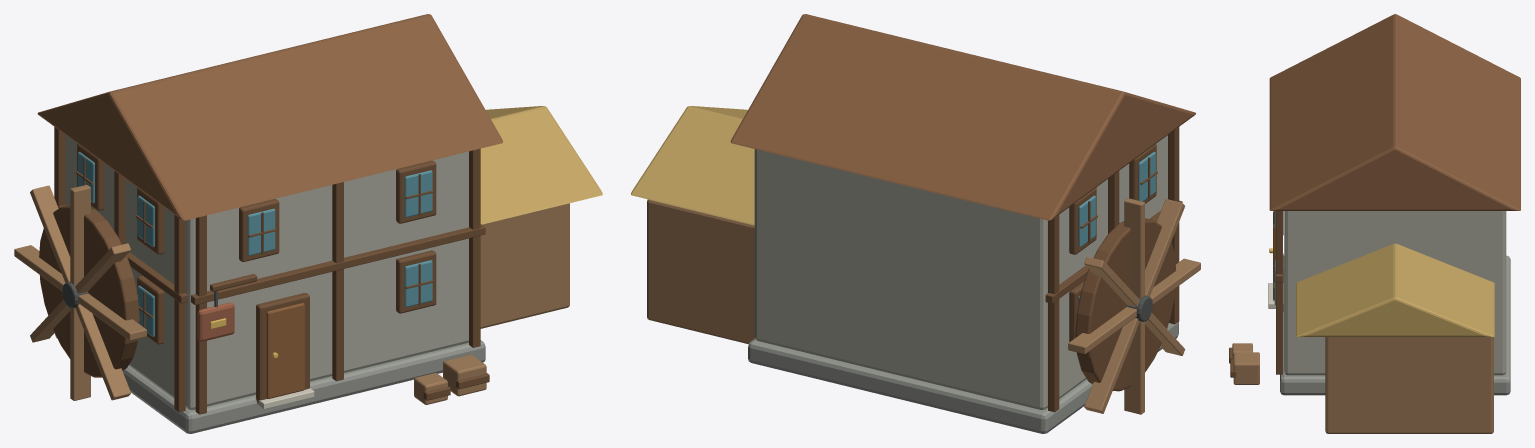
The model's file is temperate-mill-1.glb.
3 renders of one model, left to right at view 1: azimuth 30°, elevation 25°; view 2: azimuth 150°, elevation 25°; view 3: azimuth 270°, elevation 25°, orthographic. The views are drawn at different scales.
Visible parts, largest first — view 1: Wood shingles, Fieldstone, Dark beams, Aged oak, Golden thatch, Foundation stone, Blue glass, Door oak, Painted sign; view 2: Fieldstone, Wood shingles, Aged oak, Dark beams, Golden thatch, Foundation stone, Blue glass; view 3: Wood shingles, Aged oak, Fieldstone, Golden thatch, Foundation stone, Dark beams.
Boxes of the visible parts, left/top/right/bottom form: Wood shingles: left=37, top=14, right=502, bottom=220; Fieldstone: left=65, top=135, right=468, bottom=409; Dark beams: left=39, top=127, right=489, bottom=414; Aged oak: left=14, top=184, right=569, bottom=404; Golden thatch: left=480, top=106, right=602, bottom=224; Foundation stone: left=54, top=333, right=485, bottom=433; Blue glass: left=78, top=151, right=432, bottom=336; Door oak: left=266, top=303, right=304, bottom=398; Painted sign: left=197, top=302, right=234, bottom=341; Fieldstone: left=754, top=135, right=1167, bottom=409; Wood shingles: left=730, top=14, right=1195, bottom=220; Aged oak: left=647, top=198, right=1200, bottom=414; Dark beams: left=1045, top=127, right=1182, bottom=412; Golden thatch: left=631, top=106, right=754, bottom=225; Foundation stone: left=748, top=322, right=1178, bottom=433; Blue glass: left=1078, top=152, right=1155, bottom=302; Wood shingles: left=1269, top=14, right=1520, bottom=210; Aged oak: left=1232, top=337, right=1493, bottom=433; Fieldstone: left=1284, top=211, right=1506, bottom=375; Golden thatch: left=1296, top=243, right=1494, bottom=336; Foundation stone: left=1280, top=255, right=1510, bottom=395; Dark beams: left=1229, top=211, right=1283, bottom=377.
Bounding box in the file's own units: 6.46 × 4.04 × 4.07.
